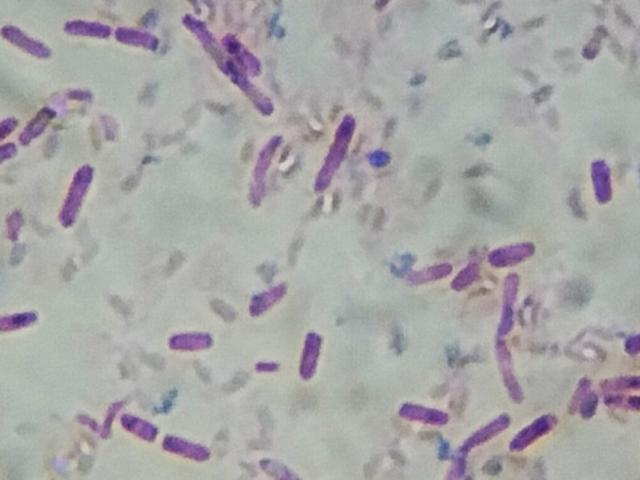E. coli: (318, 108, 360, 198), (246, 128, 286, 206), (58, 159, 96, 238), (490, 339, 531, 404), (222, 29, 273, 72), (396, 395, 454, 432), (512, 407, 559, 452), (19, 98, 62, 147), (157, 433, 217, 467), (497, 271, 526, 340), (486, 235, 541, 271), (466, 406, 511, 450), (4, 22, 49, 62), (245, 277, 290, 317), (296, 324, 326, 383), (589, 156, 620, 210), (117, 408, 160, 446), (114, 21, 164, 52), (164, 328, 222, 353), (65, 14, 111, 45), (406, 257, 456, 285), (0, 305, 42, 337), (455, 255, 483, 294), (568, 369, 590, 416), (601, 369, 640, 395), (605, 390, 640, 416), (0, 141, 26, 169), (0, 102, 19, 140), (583, 388, 599, 423)
